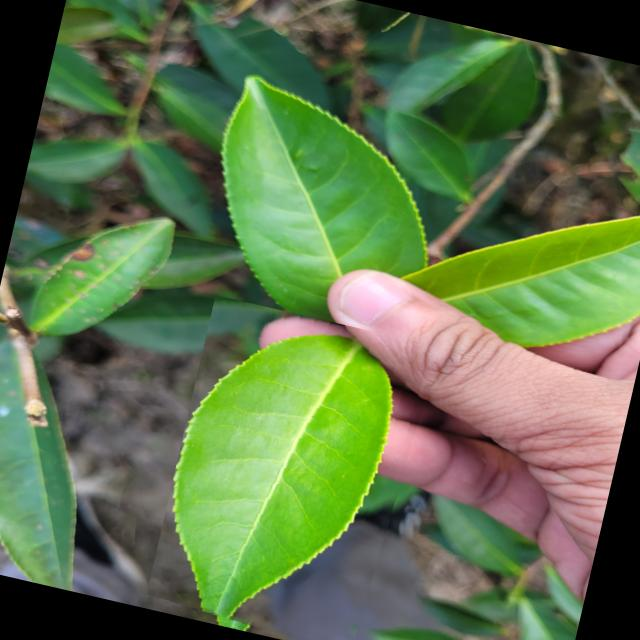Category B 2-4 days: (143, 294, 440, 640)
